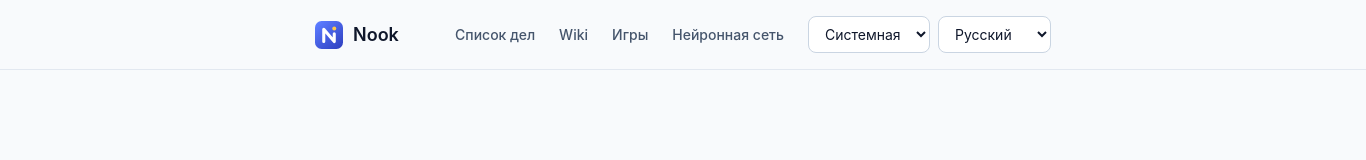
Test: LanguageSwitcher › switches the whole UI, <html lang> and remembers the choice
This screenshot has width=1366, height=160.
Select "English" in the dropdown named "Язык" at (994, 34), box [938, 16, 1051, 53]
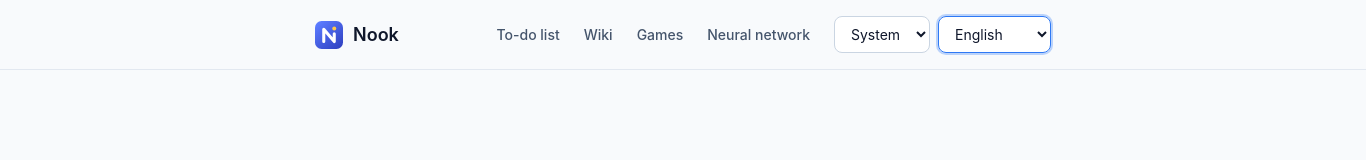
expect the link "Games" is shown: met, box [637, 26, 683, 42]
expect the link "To-do list" is shown: met, box [496, 26, 560, 42]
Select "ქართული" in the dropdown named "Language" at (994, 34), box [938, 16, 1051, 53]
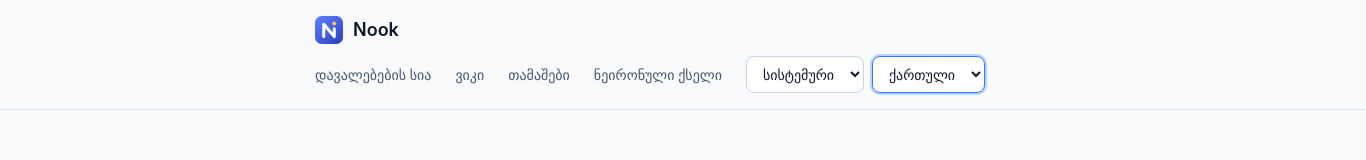
expect the link "თამაშები" is shown: met, box [508, 66, 570, 82]
expect the link "დავალებების სია" is shown: met, box [315, 66, 431, 82]
